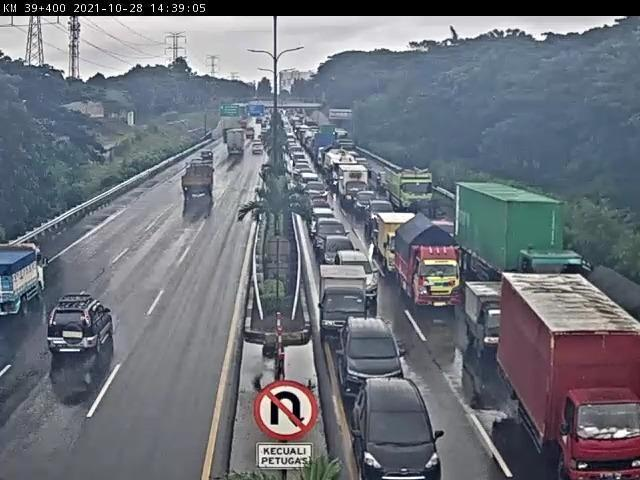car: (349, 372, 444, 480), (42, 288, 118, 374), (339, 312, 409, 384), (334, 249, 380, 298), (313, 218, 351, 241), (321, 235, 357, 259), (306, 183, 334, 204), (372, 166, 394, 192), (367, 201, 391, 223), (353, 190, 377, 209), (315, 206, 339, 221), (197, 152, 215, 167), (298, 174, 321, 185), (252, 143, 267, 157), (293, 166, 311, 174)
truck: (502, 273, 640, 480), (453, 183, 590, 284), (394, 219, 466, 303), (320, 267, 372, 335), (463, 280, 503, 359), (3, 248, 43, 310), (385, 168, 439, 211), (379, 211, 412, 276), (178, 169, 220, 203), (342, 164, 373, 207), (325, 150, 357, 185), (224, 130, 247, 161)
